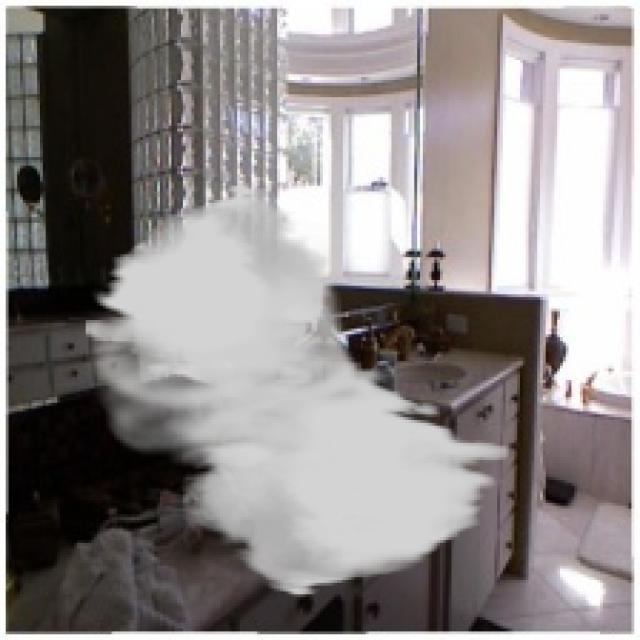Smoke: (82, 180, 508, 597)
